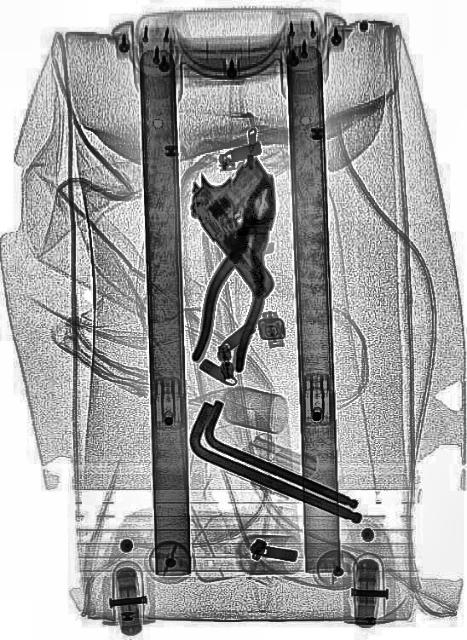Gun: (176, 128, 318, 306)
Pliers: (188, 160, 296, 382)
